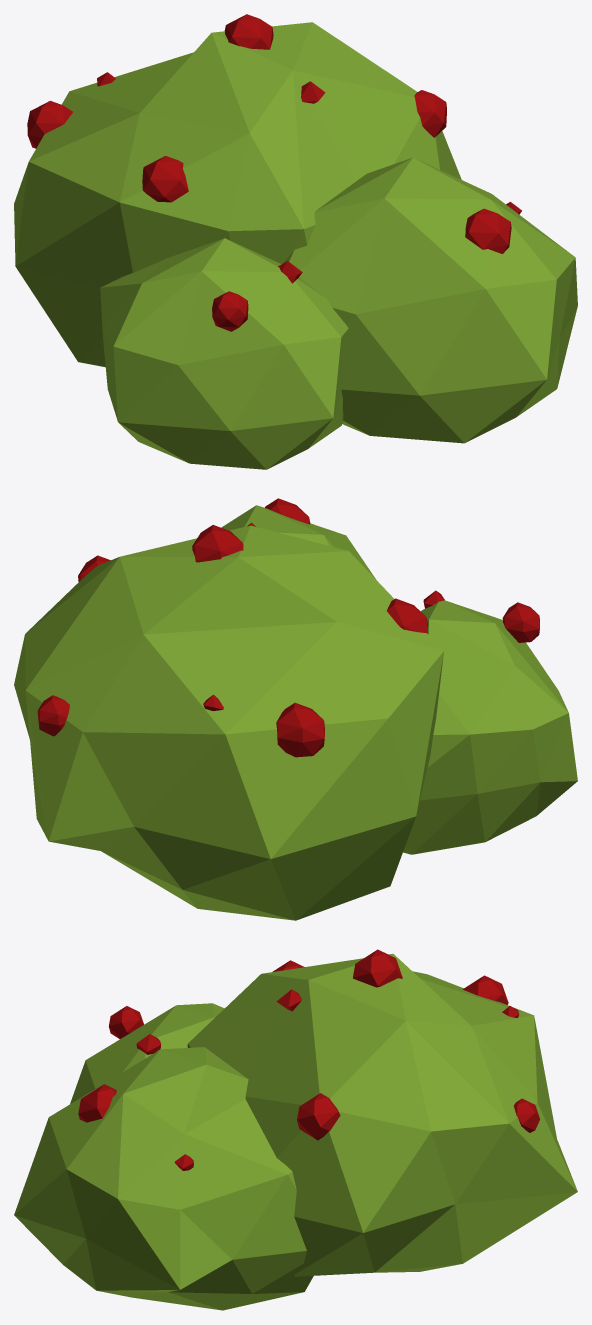
The model's file is bush1.obj.
3 renders of one model, top to bottom at view 1: azimuth 30°, elevation 25°; view 2: azimuth 150°, elevation 25°; view 3: azimuth 270°, elevation 25°, orthographic. The views are drawn at different scales.
Visible parts, largest first — view 1: Icosphere, Icosphere.001, Icosphere.002, Icosphere.004, Icosphere.005, Icosphere.003, Icosphere.007, Icosphere.006, Icosphere.008; view 2: Icosphere, Icosphere.002, Icosphere.001, Icosphere.007, Icosphere.003, Icosphere.006, Icosphere.009, Icosphere.004, Icosphere.005; view 3: Icosphere, Icosphere.001, Icosphere.002, Icosphere.008, Icosphere.003, Icosphere.005, Icosphere.006, Icosphere.007, Icosphere.009.
Part boxes in pixels (x1,y1,x2,y2): Icosphere: [14, 22, 461, 367]; Icosphere.001: [282, 157, 577, 443]; Icosphere.002: [100, 238, 348, 469]; Icosphere.004: [142, 156, 188, 202]; Icosphere.005: [465, 208, 511, 253]; Icosphere.003: [224, 14, 273, 49]; Icosphere.007: [27, 100, 72, 148]; Icosphere.006: [212, 291, 248, 331]; Icosphere.008: [414, 90, 446, 137]; Icosphere: [14, 525, 443, 920]; Icosphere.002: [403, 600, 577, 854]; Icosphere.001: [221, 505, 375, 578]; Icosphere.007: [276, 702, 324, 757]; Icosphere.003: [192, 525, 243, 562]; Icosphere.006: [502, 602, 539, 642]; Icosphere.009: [37, 695, 69, 736]; Icosphere.004: [387, 598, 427, 633]; Icosphere.005: [265, 498, 310, 524]; Icosphere: [187, 953, 577, 1276]; Icosphere.001: [14, 1047, 313, 1310]; Icosphere.002: [70, 1003, 224, 1103]; Icosphere.008: [297, 1093, 340, 1140]; Icosphere.003: [353, 949, 402, 987]; Icosphere.005: [78, 1084, 116, 1122]; Icosphere.006: [108, 1006, 143, 1038]; Icosphere.007: [463, 975, 508, 1004]; Icosphere.009: [514, 1098, 539, 1132].
Size of the model in its own units: 1.82 by 1.26 by 2.13.
